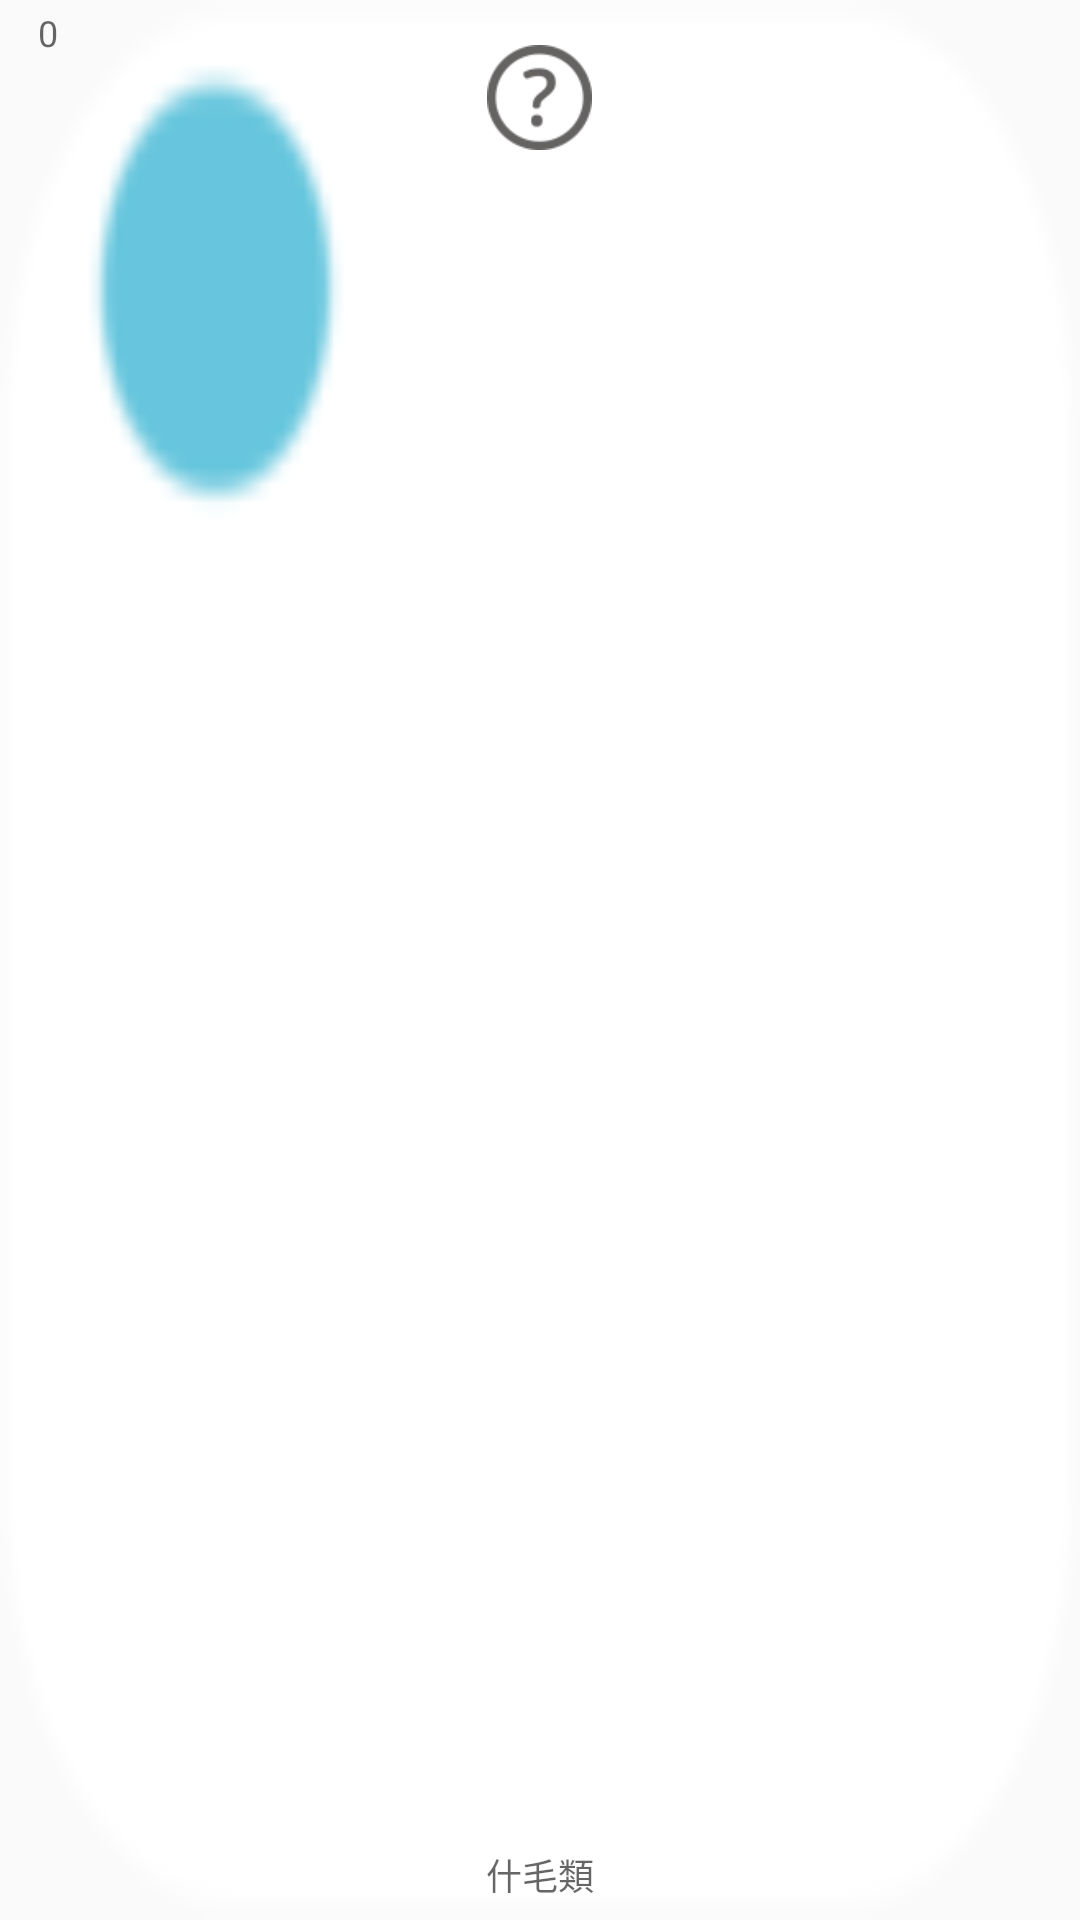

Icon click points for this 1080*1920 phone screenshot, format point (x, y):
specie unknown: point (539, 97)
